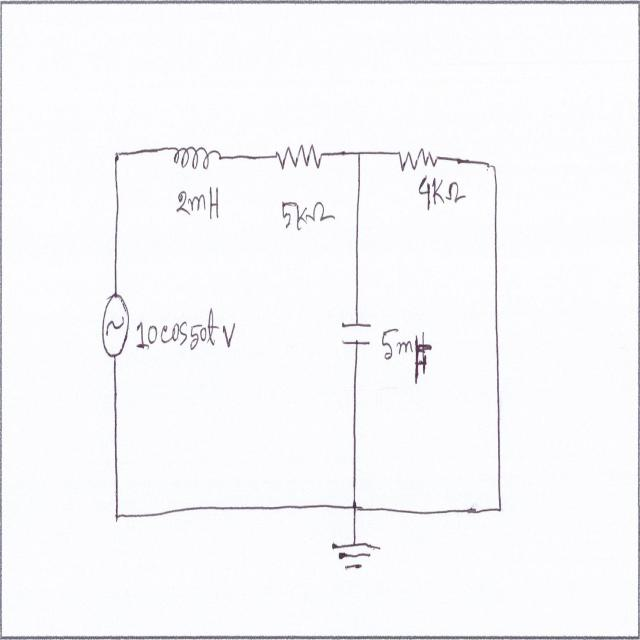ac_current: (94, 288, 136, 363)
capacitor: (340, 312, 372, 361)
ground: (327, 533, 385, 578)
inductor: (168, 133, 222, 176)
resistor: (272, 137, 326, 177), (397, 134, 437, 180)
